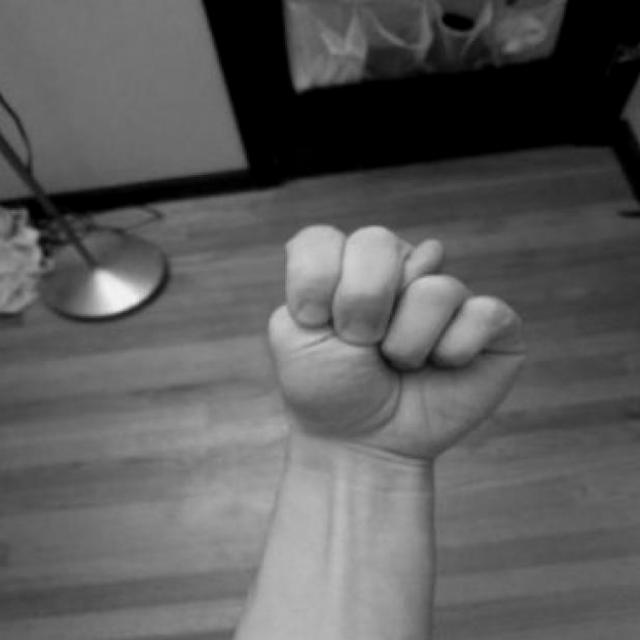N: (245, 203, 543, 489)
